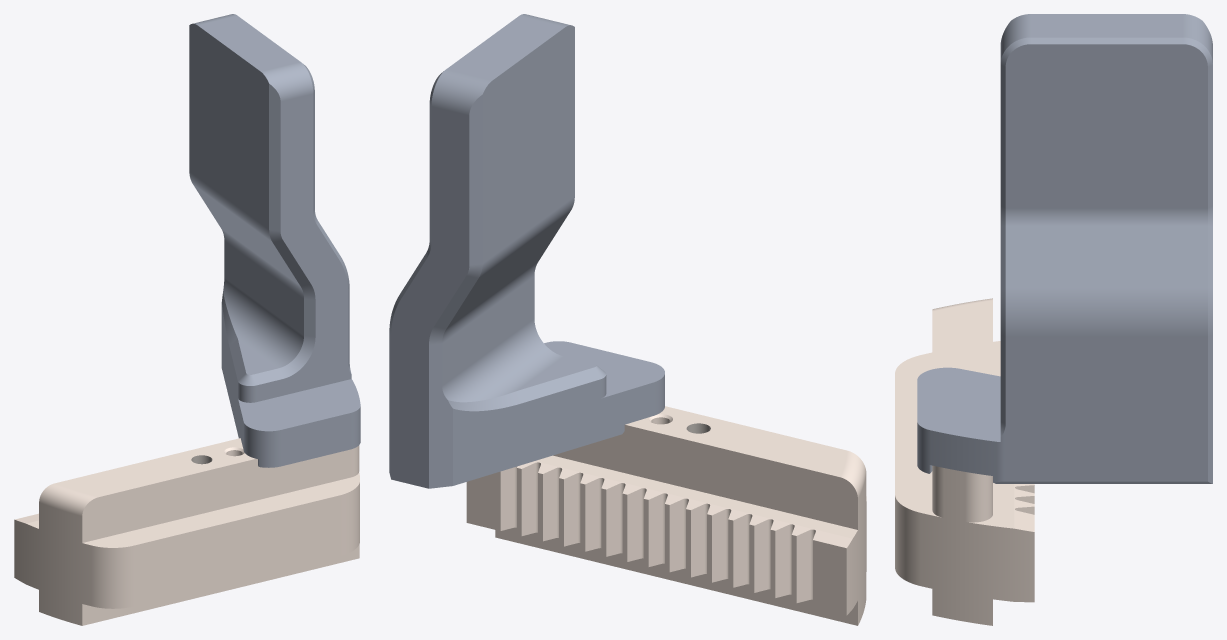
The model's file is right_finger.dae.
3 views of the same model, side by side, from view 1: azimuth 30°, elevation 25°; view 2: azimuth 150°, elevation 25°; view 3: azimuth 270°, elevation 25° (orthographic). The views are drawn at different scales.
Visible parts, largest first — view 1: ID2; view 2: ID2; view 3: ID2.
Boxes of the visible parts, left/top/right/bottom form: ID2: left=14, top=14, right=360, bottom=625; ID2: left=389, top=14, right=866, bottom=625; ID2: left=895, top=14, right=1212, bottom=625.
Bounding box in the file's own units: 0.0452 × 0.0314 × 0.0619.
